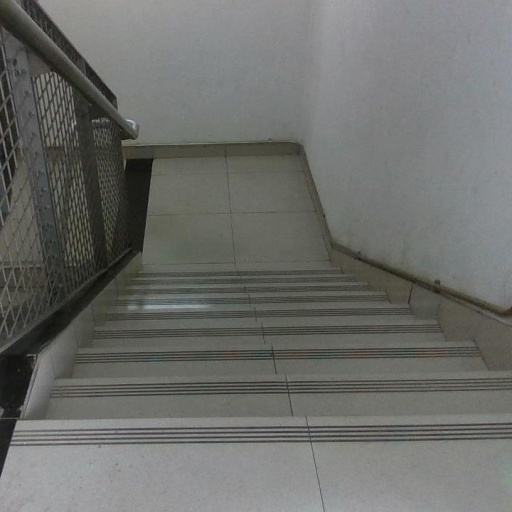Stairs: (2, 262, 512, 512)
